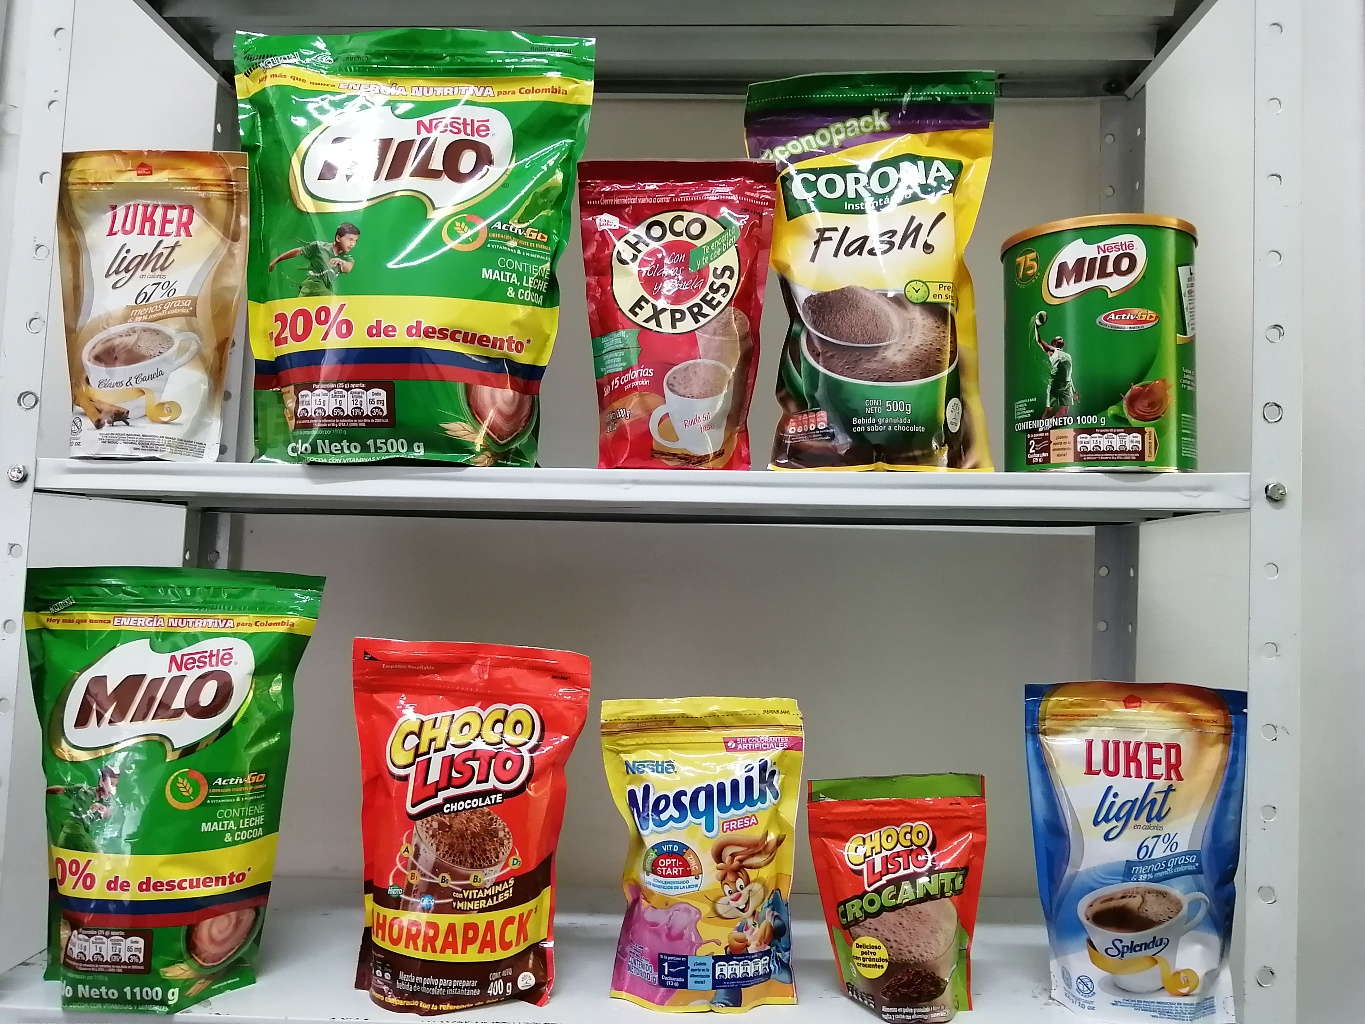COL0170102DYP10000: (805, 770, 1006, 1019)
COL0170103DYP40000: (347, 635, 601, 1021)
COL0170305DYP20000: (592, 684, 811, 1007)
